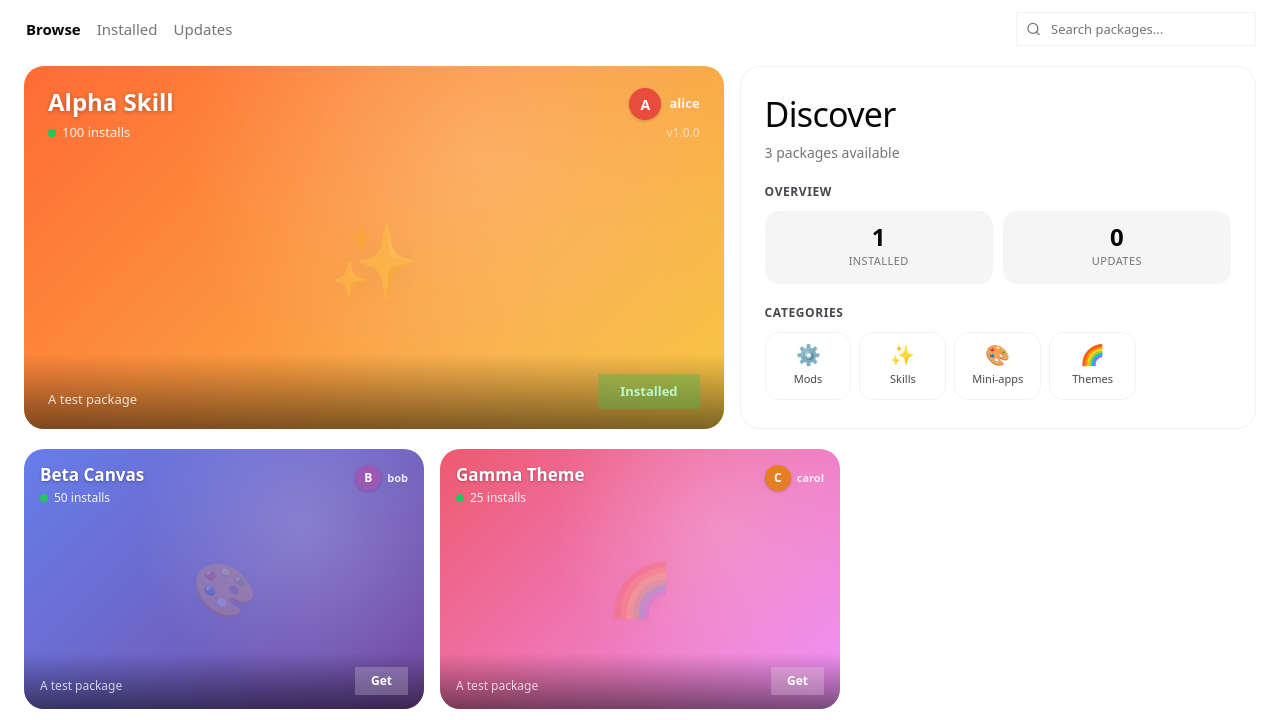
InstalledList › shows Uninstall button for each installed item
Step 1. Click the 2nd button with class "store-header-tab" → click(127, 29), box [95,14,160,44]
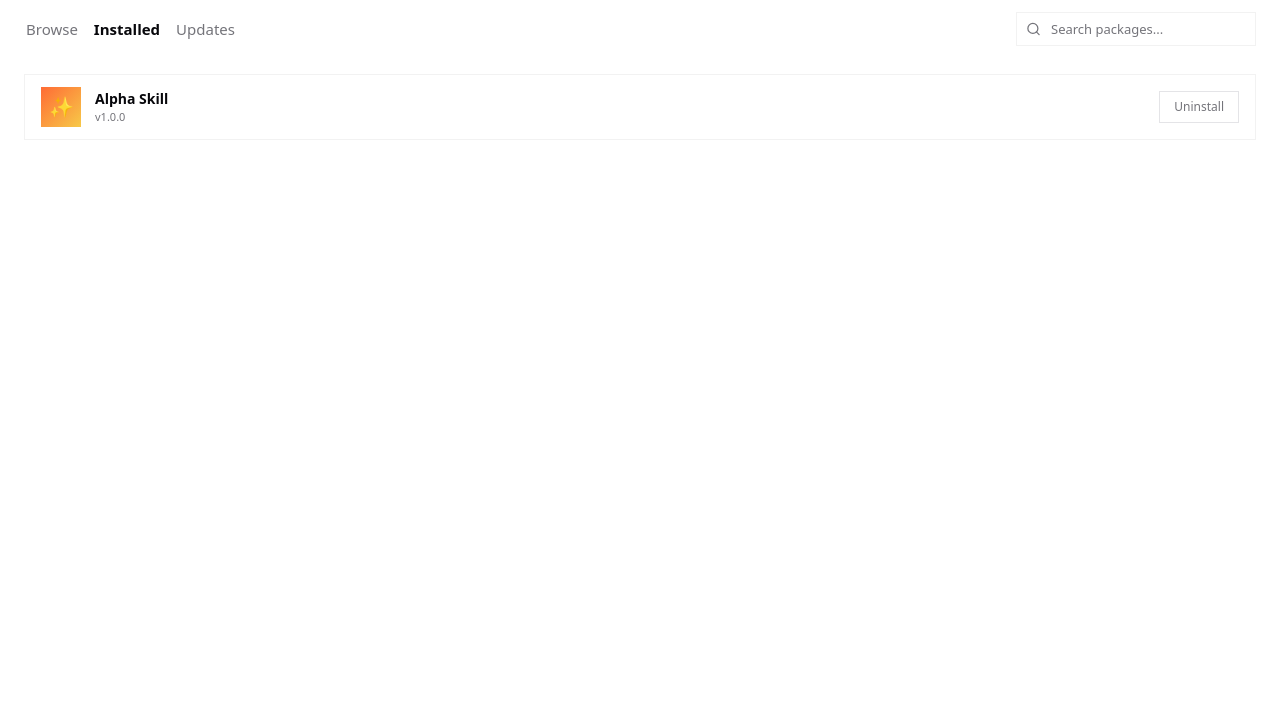
Expected: the button with class "store-uninstall-btn" reads "Uninstall", [1159,91,1239,123]
